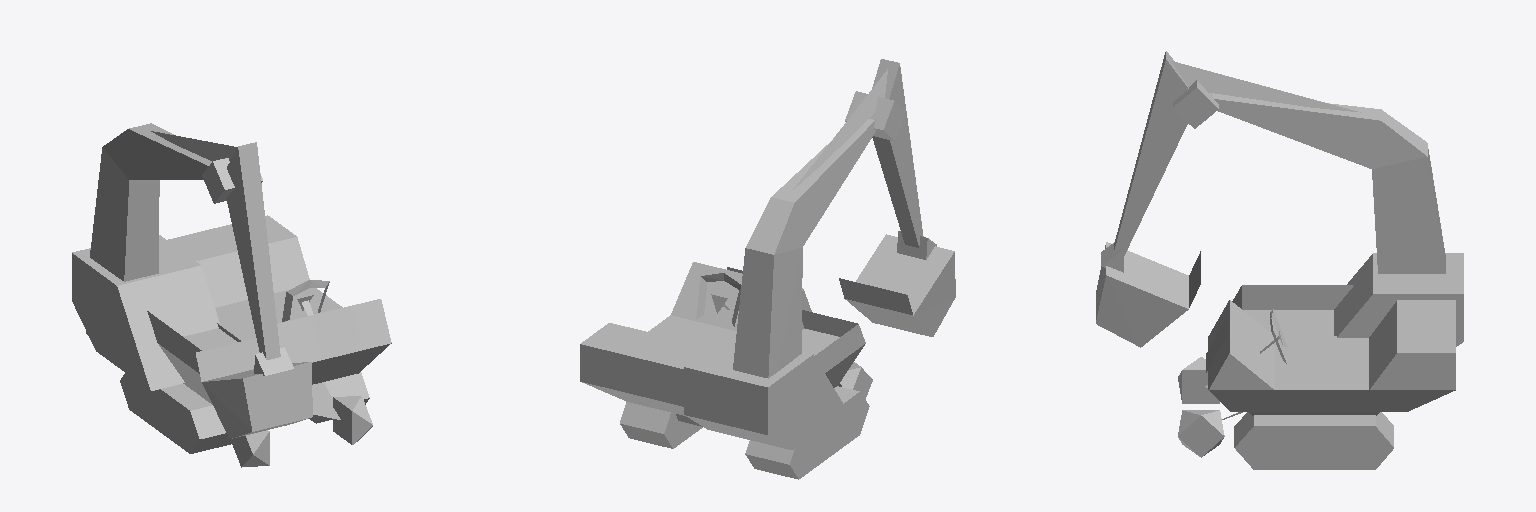
The model's file is gold_mantis.obj.
The picture shows the model from 3 angles: view 1: azimuth 30°, elevation 25°; view 2: azimuth 150°, elevation 25°; view 3: azimuth 270°, elevation 25°; orthographic projection.
Parts seen in each view (by area): view 1: polygon1, polygon2, polygon0; view 2: polygon1, polygon2, polygon0; view 3: polygon1, polygon0.
Part boxes in pixels (x1,y1,x2,y2): polygon1: (72,123,391,453); polygon2: (86,276,360,358); polygon0: (230,396,372,467); polygon1: (580,59,955,479); polygon2: (727,267,819,442); polygon0: (838,362,872,399); polygon1: (1096,51,1463,469); polygon0: (1178,357,1224,457).
Size of the model in its own units: 0.9692 by 1.57 by 1.55.